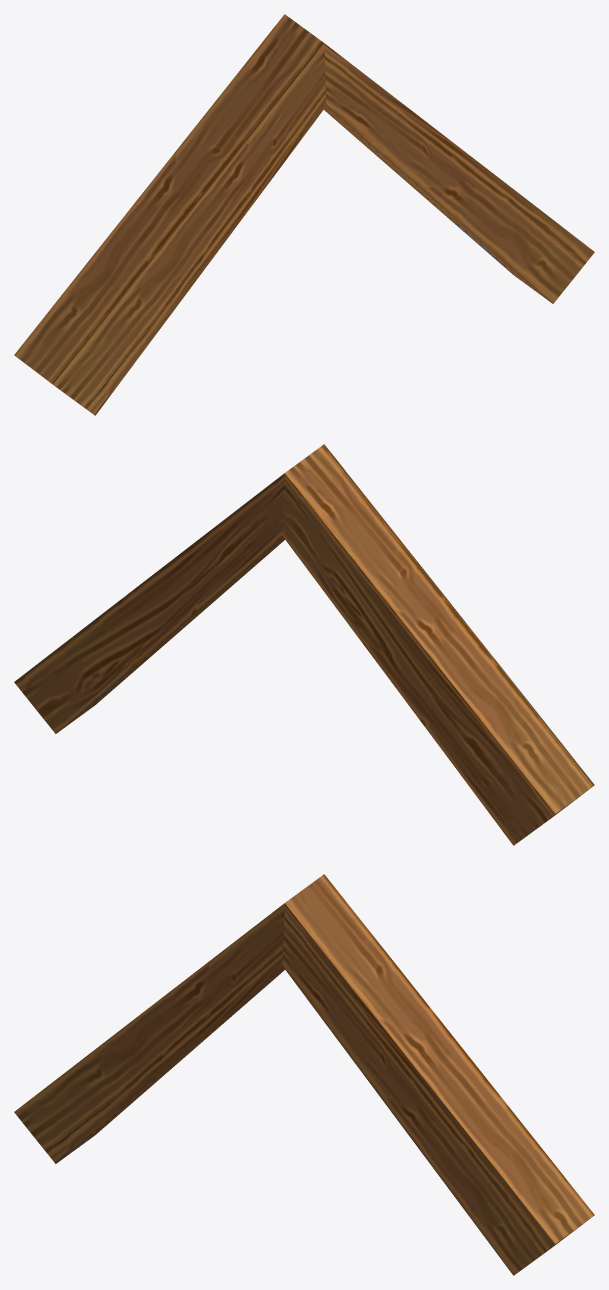
3 views of the same model, one above another, from view 1: azimuth 30°, elevation 25°; view 2: azimuth 150°, elevation 25°; view 3: azimuth 330°, elevation 25° (orthographic).
Parts seen in each view (by area): view 1: Cube.396; view 2: Cube.396; view 3: Cube.396.
Boxes of the visible parts, x1,y1,x2,y2 form: Cube.396: [14, 14, 594, 415]; Cube.396: [14, 444, 594, 845]; Cube.396: [14, 874, 594, 1275].
Size of the model in its own units: 427 by 239 by 60.06.
1 material, 1 textured.
